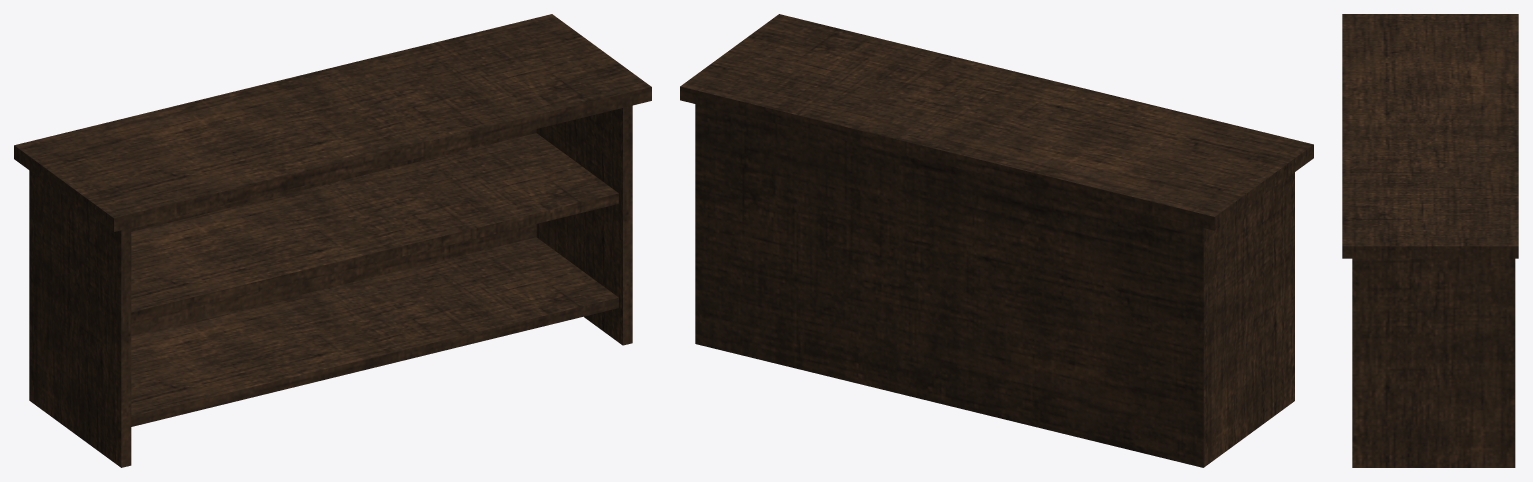
Rendered from tv_table_1_1.obj.
3 views of the same model, side by side, from view 1: azimuth 30°, elevation 25°; view 2: azimuth 150°, elevation 25°; view 3: azimuth 270°, elevation 25° (orthographic). The views are drawn at different scales.
Visible parts, largest first — view 1: tv_table_1_1; view 2: tv_table_1_1; view 3: tv_table_1_1.
Boxes of the visible parts, x1,y1,x2,y2 form: tv_table_1_1: [14, 14, 651, 467]; tv_table_1_1: [680, 14, 1313, 467]; tv_table_1_1: [1342, 14, 1518, 467].
Bounding box in the file's own units: 1.62 × 0.74 × 0.52.
